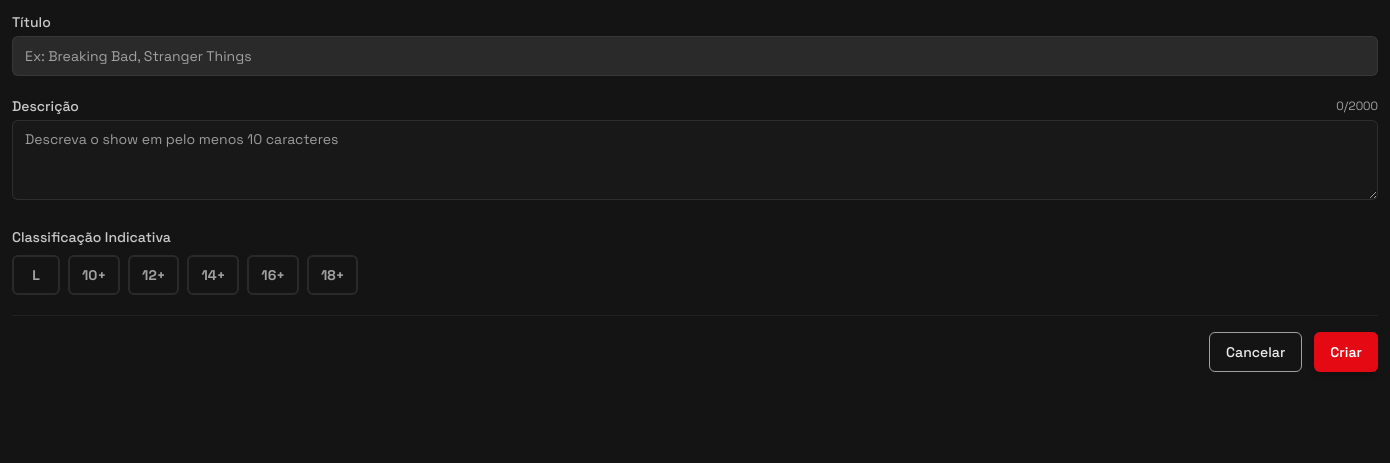
Test: TvShowForm › mostra erros ao submeter vazio
What coordinates should you click on to do the following:
click the button "Criar"
I would click on:
 (1346, 352)
Its box is [1314,332,1378,372].
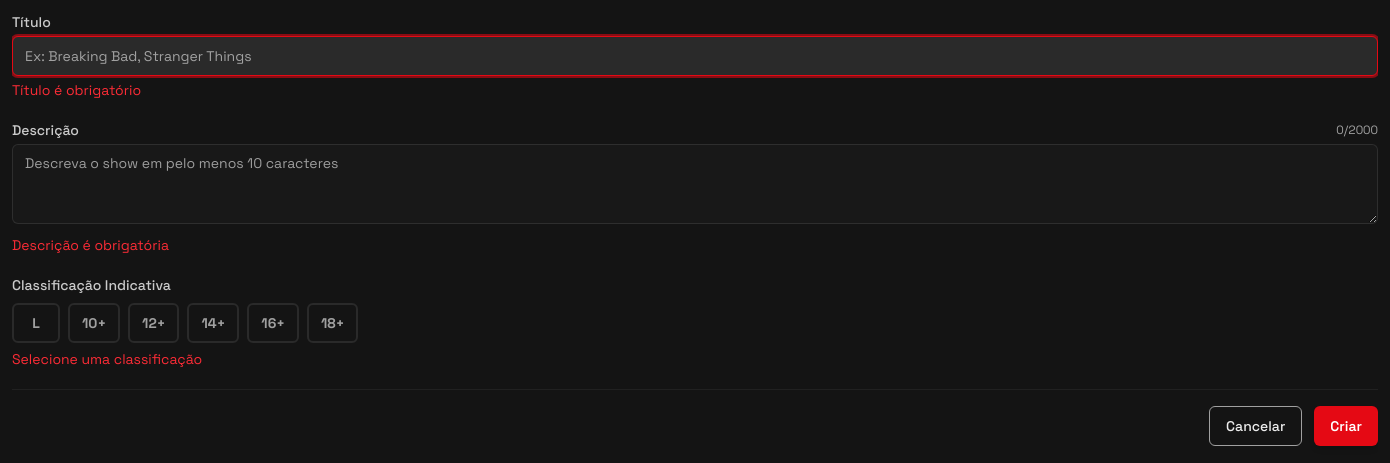
Now the text "Título é obrigatório" is shown, box [12,81,141,99]
Now the text "Descrição é obrigatória" is shown, box [12,236,169,254]
Now the text "Selecione uma classificação" is shown, box [12,350,202,368]
